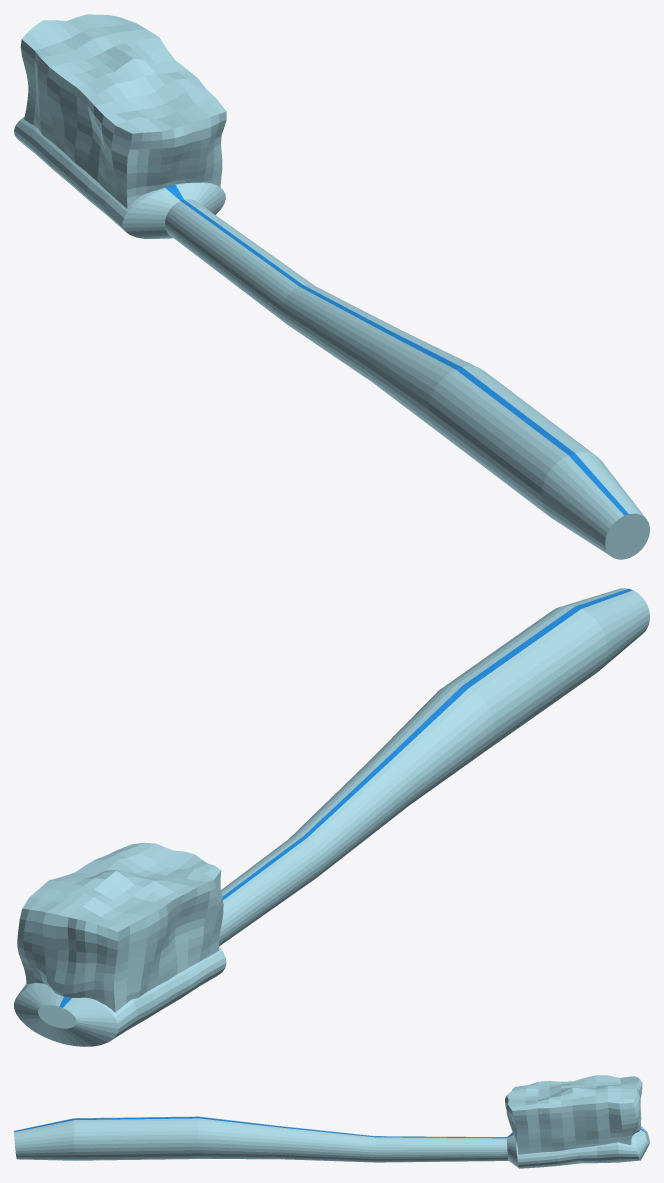
The model's file is toothbrush.fbx.
3 views of the same model, one above another, from view 1: azimuth 30°, elevation 25°; view 2: azimuth 150°, elevation 25°; view 3: azimuth 270°, elevation 25° (orthographic). The views are drawn at different scales.
Visible parts, largest first — view 1: Toothbrush; view 2: Toothbrush; view 3: Toothbrush.
Boxes of the visible parts, box(x1,y1,x2,y2) form: Toothbrush: box(14, 14, 649, 559); Toothbrush: box(14, 588, 649, 1046); Toothbrush: box(14, 1075, 649, 1168).
Bounding box in the file's own units: 1.25 × 1.48 × 10.86.
